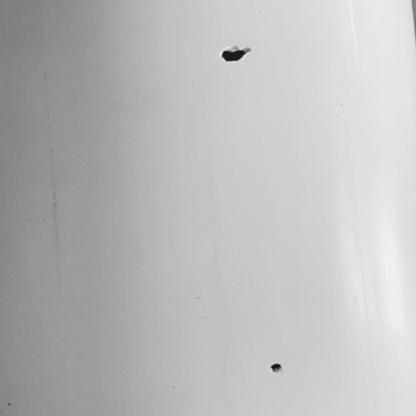kongdong: (211, 40, 258, 67), (262, 355, 304, 383)
